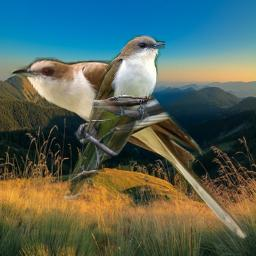Cuckoo: (9, 57, 252, 243), (62, 33, 165, 200)
